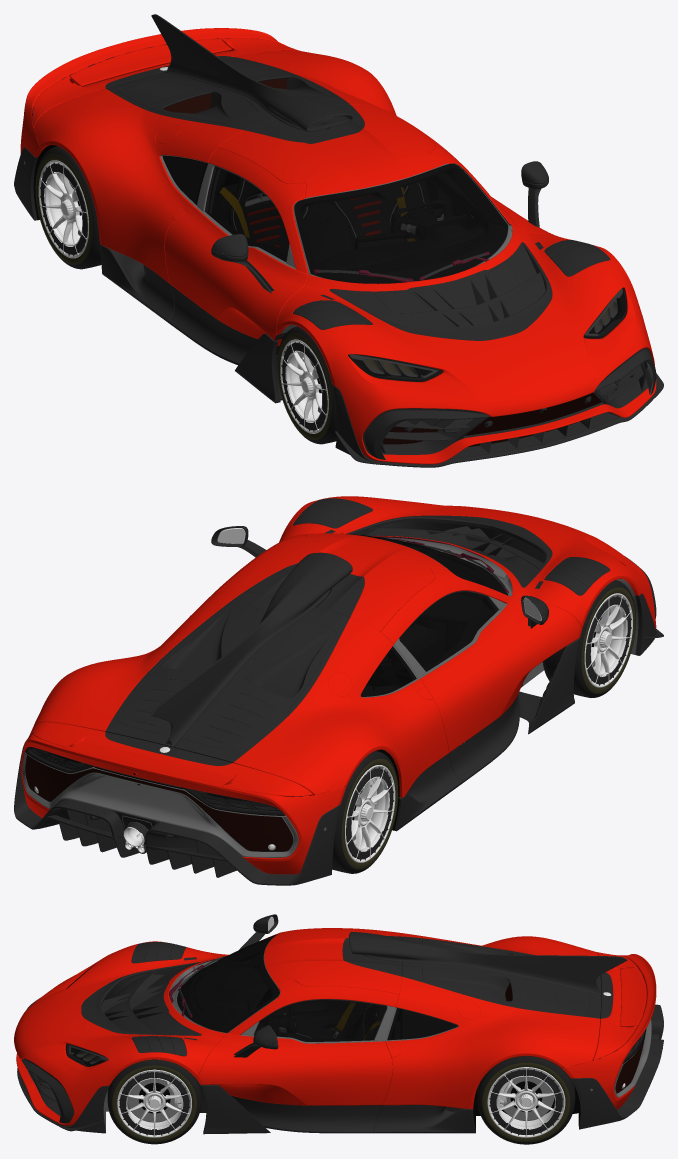
Rendered from mercedes_project_one_2k_comp.glb.
3 views of the same model, one above another, from view 1: azimuth 30°, elevation 25°; view 2: azimuth 150°, elevation 25°; view 3: azimuth 270°, elevation 25° (orthographic). The views are drawn at different scales.
Visible parts, largest first — view 1: MERCEDES_PROJECT_ONE.004_Mesh.014, MERCEDES_PROJECT_ONE.006_Mesh.016, MERCEDES_PROJECT_ONE.003_Mesh.007, MERCEDES_PROJECT_ONE.005_Mesh.015, MERCEDES_PROJECT_ONE.022_Mesh.033, MERCEDES_PROJECT_ONE.001_Mesh.004, Object019.001_Mesh.006, doorlf_a.030_Mesh.360, MERCEDES_PROJECT_ONE.014_Mesh.025, MERCEDES_PROJECT_ONE.007_Mesh.017, MERCEDES_PROJECT_ONE.012_Mesh.023, MERCEDES_PROJECT_ONE.011_Mesh.022; view 2: MERCEDES_PROJECT_ONE.004_Mesh.014, MERCEDES_PROJECT_ONE.006_Mesh.016, MERCEDES_PROJECT_ONE.007_Mesh.017, MERCEDES_PROJECT_ONE.003_Mesh.007, MERCEDES_PROJECT_ONE.001_Mesh.004, Object019.001_Mesh.006, doorlf_a.019_Mesh.349, MERCEDES_PROJECT_ONE.005_Mesh.015, MERCEDES_PROJECT_ONE.022_Mesh.033, MERCEDES_PROJECT_ONE.015_Mesh.026, MERCEDES_PROJECT_ONE.019_Mesh.030, MERCEDES_PROJECT_ONE.002_Mesh.005; view 3: MERCEDES_PROJECT_ONE.004_Mesh.014, MERCEDES_PROJECT_ONE.006_Mesh.016, MERCEDES_PROJECT_ONE.003_Mesh.007, MERCEDES_PROJECT_ONE.005_Mesh.015, Object019.001_Mesh.006, MERCEDES_PROJECT_ONE.022_Mesh.033, MERCEDES_PROJECT_ONE.001_Mesh.004, MERCEDES_PROJECT_ONE.007_Mesh.017, Object019.024_Mesh.036, MERCEDES_PROJECT_ONE.014_Mesh.025, doorlf_a.019_Mesh.349, MERCEDES_PROJECT_ONE.013_Mesh.024.
Boxes of the visible parts, x1,y1,x2,y2 form: MERCEDES_PROJECT_ONE.004_Mesh.014: [20, 28, 656, 464]; MERCEDES_PROJECT_ONE.006_Mesh.016: [14, 14, 663, 467]; MERCEDES_PROJECT_ONE.003_Mesh.007: [162, 155, 507, 283]; MERCEDES_PROJECT_ONE.005_Mesh.015: [41, 57, 647, 454]; MERCEDES_PROJECT_ONE.022_Mesh.033: [207, 168, 508, 280]; MERCEDES_PROJECT_ONE.001_Mesh.004: [38, 160, 328, 433]; Object019.001_Mesh.006: [35, 146, 336, 444]; doorlf_a.030_Mesh.360: [164, 79, 601, 446]; MERCEDES_PROJECT_ONE.014_Mesh.025: [348, 287, 627, 381]; MERCEDES_PROJECT_ONE.007_Mesh.017: [24, 155, 625, 381]; MERCEDES_PROJECT_ONE.012_Mesh.023: [381, 362, 653, 459]; MERCEDES_PROJECT_ONE.011_Mesh.022: [160, 67, 616, 376]; MERCEDES_PROJECT_ONE.004_Mesh.014: [20, 496, 656, 874]; MERCEDES_PROJECT_ONE.006_Mesh.016: [14, 498, 663, 885]; MERCEDES_PROJECT_ONE.007_Mesh.017: [22, 533, 638, 857]; MERCEDES_PROJECT_ONE.003_Mesh.007: [341, 533, 507, 696]; MERCEDES_PROJECT_ONE.001_Mesh.004: [345, 593, 632, 862]; Object019.001_Mesh.006: [332, 580, 635, 873]; doorlf_a.019_Mesh.349: [25, 755, 293, 851]; MERCEDES_PROJECT_ONE.005_Mesh.015: [32, 529, 543, 857]; MERCEDES_PROJECT_ONE.022_Mesh.033: [400, 543, 508, 671]; MERCEDES_PROJECT_ONE.015_Mesh.026: [25, 537, 548, 815]; MERCEDES_PROJECT_ONE.019_Mesh.030: [217, 528, 541, 620]; MERCEDES_PROJECT_ONE.002_Mesh.005: [25, 650, 411, 851]; MERCEDES_PROJECT_ONE.004_Mesh.014: [14, 928, 656, 1125]; MERCEDES_PROJECT_ONE.006_Mesh.016: [17, 914, 663, 1135]; MERCEDES_PROJECT_ONE.003_Mesh.007: [177, 934, 457, 1041]; MERCEDES_PROJECT_ONE.005_Mesh.015: [170, 933, 631, 1111]; Object019.001_Mesh.006: [107, 1056, 575, 1144]; MERCEDES_PROJECT_ONE.022_Mesh.033: [177, 937, 384, 1041]; MERCEDES_PROJECT_ONE.001_Mesh.004: [117, 1067, 565, 1137]; MERCEDES_PROJECT_ONE.007_Mesh.017: [67, 936, 651, 1130]; Object019.024_Mesh.036: [127, 1076, 554, 1122]; MERCEDES_PROJECT_ONE.014_Mesh.025: [65, 964, 108, 1066]; doorlf_a.019_Mesh.349: [615, 1040, 643, 1092]; MERCEDES_PROJECT_ONE.013_Mesh.024: [473, 1086, 580, 1130].
Bounding box in the file's own units: 2.1 × 1.19 × 4.58.
